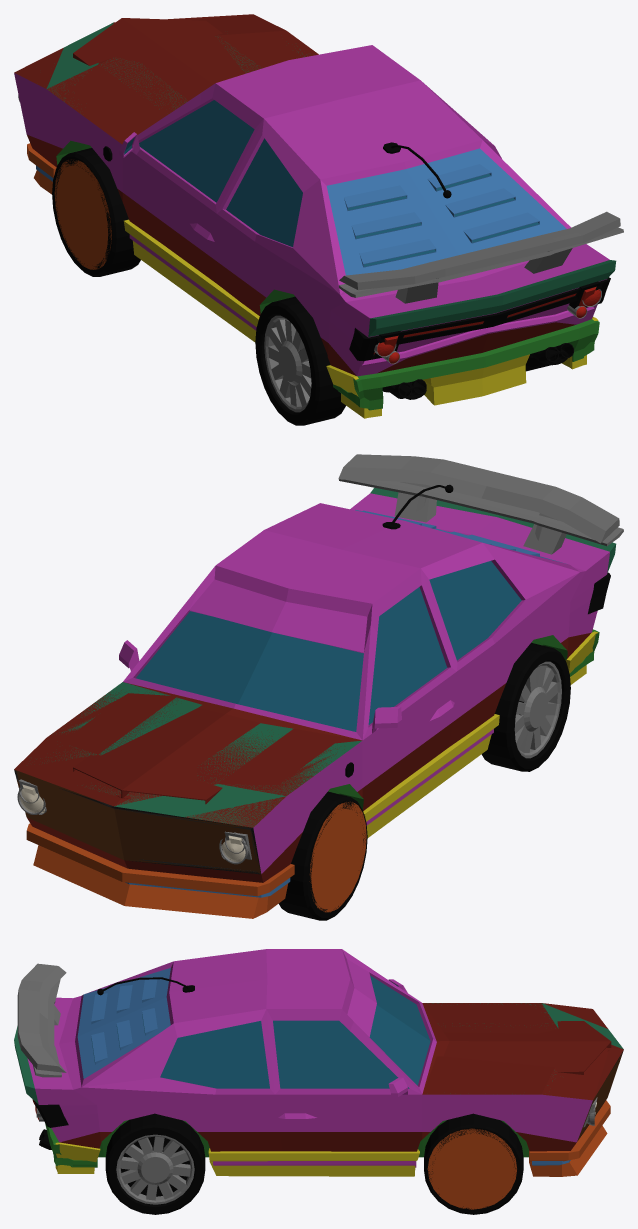
Rendered from cartest.glb.
3 renders of one model, top to bottom at view 1: azimuth 30°, elevation 25°; view 2: azimuth 150°, elevation 25°; view 3: azimuth 270°, elevation 25°, orthographic. The views are drawn at different scales.
Parts seen in each view (by area): view 1: Car_core_upper, BackWindow, Car_core_windows, Hood.000, Wheels, Hood.001, Car_core_lower, Spoiler.002, BackBumper.000, Spoiler.000, Wheels.000, BackBumper.001 (+11 smaller); view 2: Car_core_upper, Car_core_windows, Hood.000, Hood.001, Spoiler.002, FrontBumper.001, Grille.000, Hood.002, Wheels, Car_core_lower, Sunstrip, Wheels.000 (+8 smaller); view 3: Car_core_upper, Car_core_windows, Hood.000, Wheels, Hood.001, BackWindow, Wheels.000, Car_core_lower, Skirts.001, Rims, Spoiler.002, FrontBumper.001 (+10 smaller).
Boxes of the visible parts, left/top/right/bottom form: Car_core_upper: left=14, top=45, right=609, bottom=376; BackWindow: left=326, top=148, right=566, bottom=275; Car_core_windows: left=124, top=100, right=538, bottom=266; Hood.000: left=14, top=14, right=318, bottom=144; Wheels: left=52, top=148, right=551, bottom=425; Hood.001: left=73, top=14, right=249, bottom=100; Car_core_lower: left=27, top=134, right=575, bottom=375; Spoiler.002: left=339, top=211, right=620, bottom=303; BackBumper.000: left=333, top=319, right=599, bottom=410; Spoiler.000: left=368, top=260, right=616, bottom=336; Wheels.000: left=54, top=159, right=111, bottom=269; BackBumper.001: left=326, top=317, right=598, bottom=418; Car_core_upper: left=119, top=493, right=609, bottom=873; Car_core_windows: left=136, top=561, right=521, bottom=731; Hood.000: left=14, top=690, right=362, bottom=827; Hood.001: left=15, top=683, right=359, bottom=806; Spoiler.002: left=338, top=454, right=619, bottom=554; FrontBumper.001: left=26, top=823, right=294, bottom=918; Grille.000: left=14, top=769, right=260, bottom=873; Hood.002: left=36, top=682, right=361, bottom=827; Wheels: left=278, top=642, right=570, bottom=920; Car_core_lower: left=27, top=632, right=591, bottom=882; Sunstrip: left=189, top=579, right=367, bottom=653; Wheels.000: left=309, top=801, right=366, bottom=912; Car_core_upper: left=27, top=949, right=592, bottom=1142; Car_core_windows: left=91, top=975, right=430, bottom=1088; Hood.000: left=422, top=1003, right=621, bottom=1100; Wheels: left=105, top=1113, right=523, bottom=1214; Hood.001: left=423, top=1004, right=623, bottom=1099; BackWindow: left=77, top=968, right=170, bottom=1078; Wheels.000: left=427, top=1128, right=516, bottom=1209; Car_core_lower: left=59, top=1103, right=603, bottom=1151; Skirts.001: left=208, top=1148, right=419, bottom=1176; Rims: left=116, top=1134, right=194, bottom=1204; Spoiler.002: left=17, top=963, right=66, bottom=1072; FrontBumper.001: left=529, top=1100, right=610, bottom=1176.
Size of the model in its own units: 3.44 by 2.85 by 8.33.
